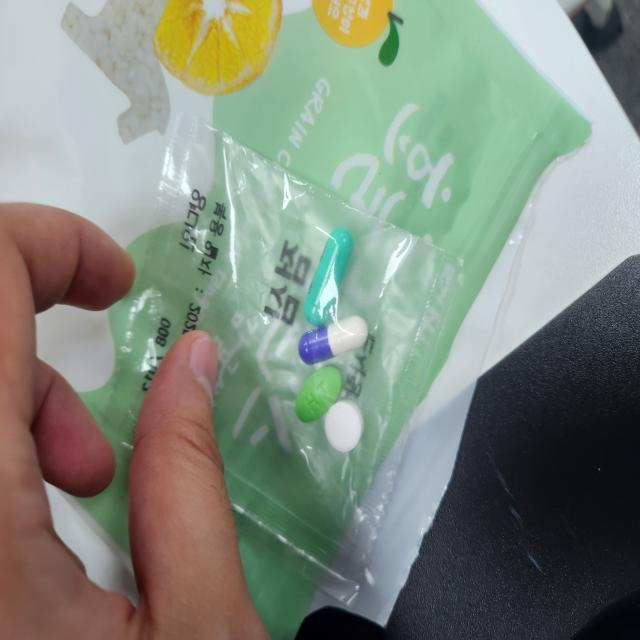러키펜정: (323, 400, 366, 454)
씨엠지세파클러캡슐: (298, 316, 368, 365)
에르도캡슐: (302, 228, 355, 333)
휴티렌정: (295, 364, 343, 425)
